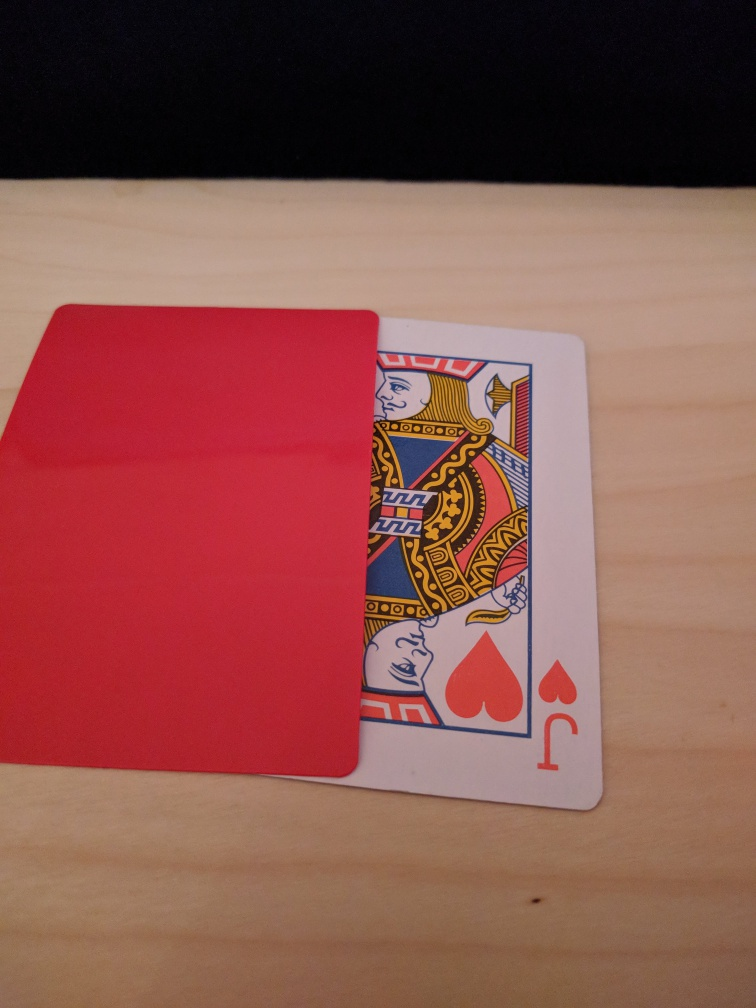jack: (343, 315, 605, 813)
